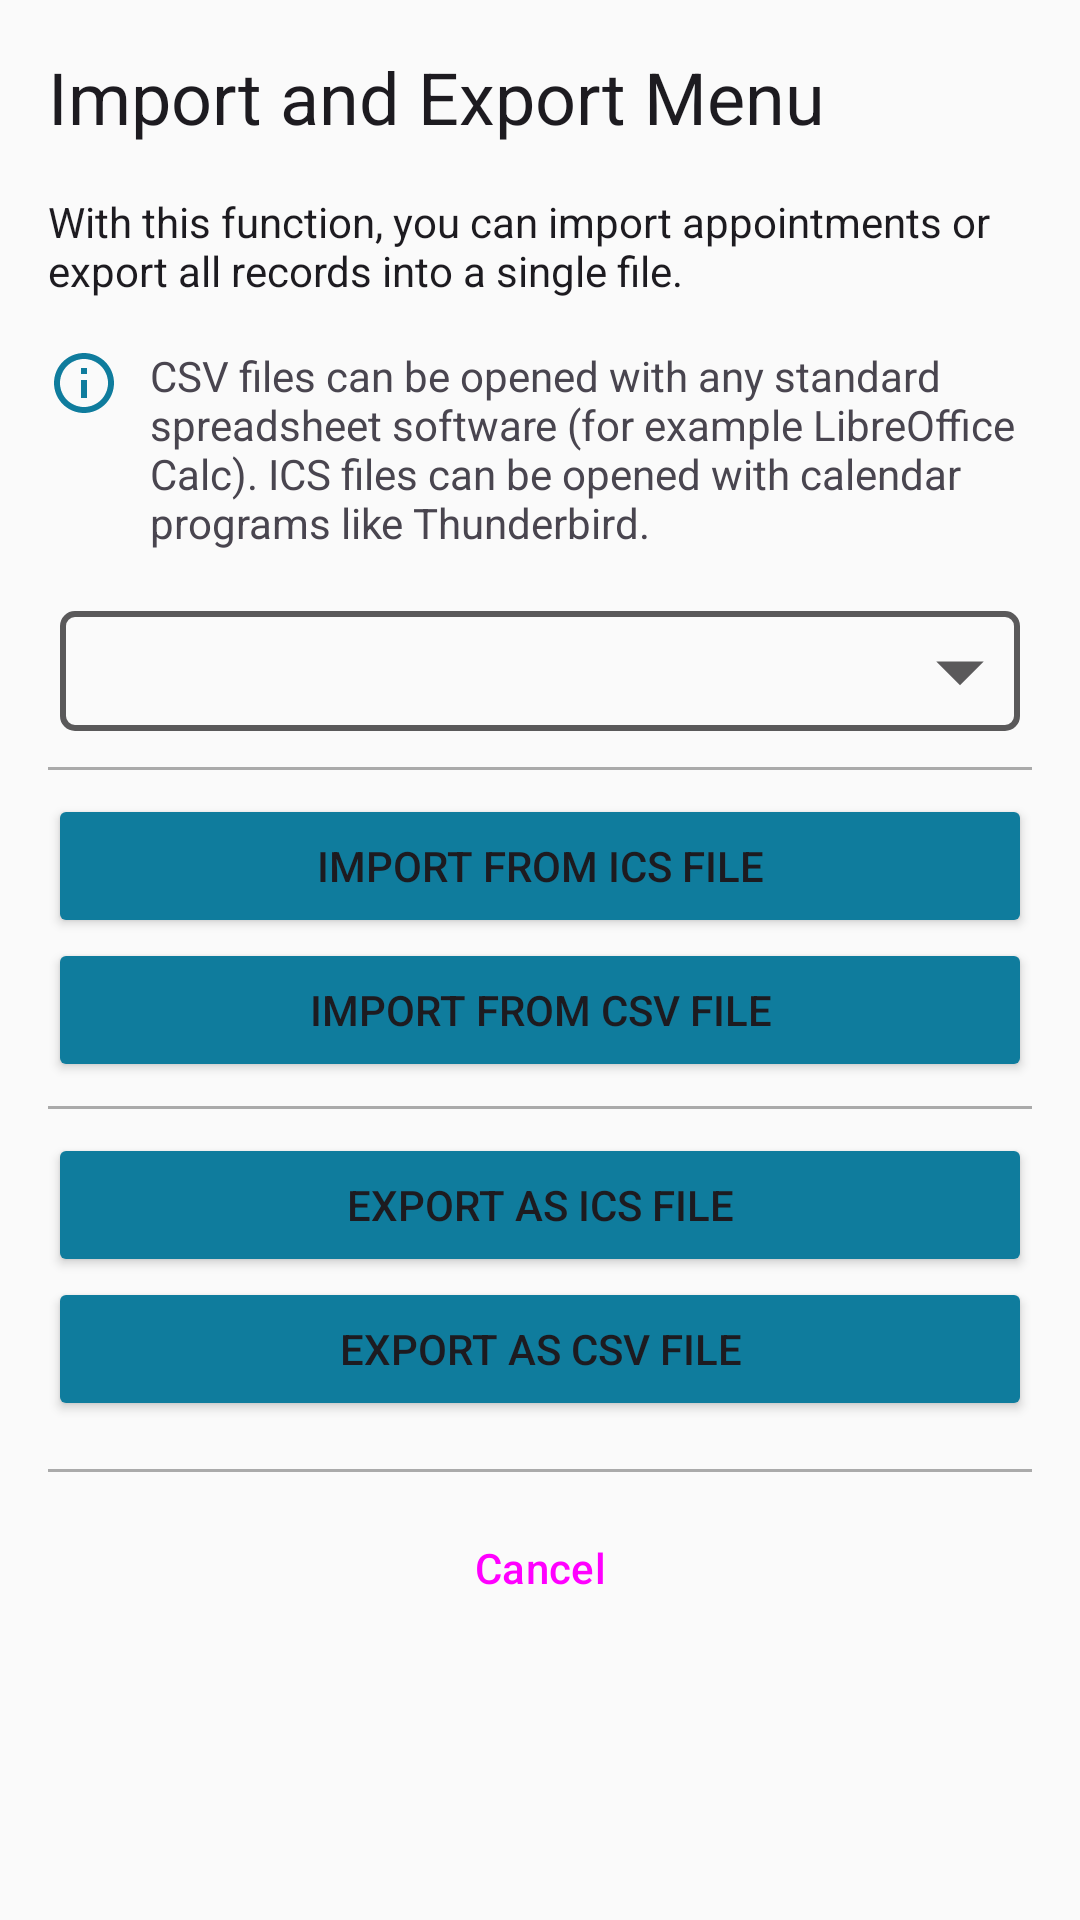

Locate icon controls on the screen. Image size 1080 x 1920, boxes as box=[x1, y1, x2, y2].
info: box=[54, 353, 114, 413]
